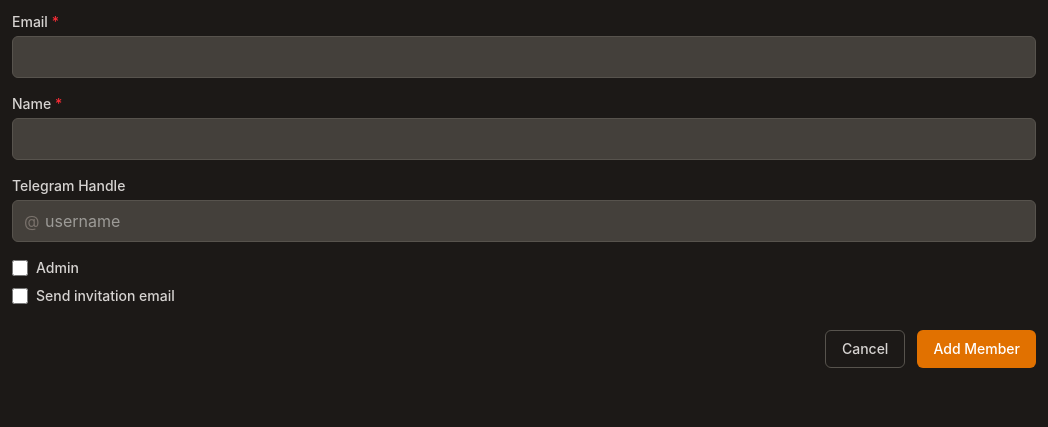
Test case: MemberForm › create mode › validates required fields on submit
Click the button "Add Member" at (977, 349), box [917,330,1036,368]
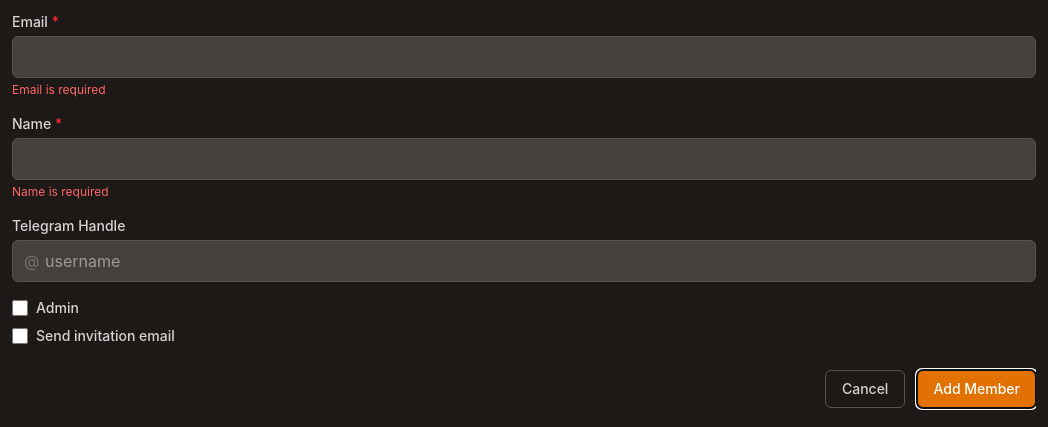
Now the text "Email is required" is shown, box [12,82,106,97]
Now the text "Name is required" is shown, box [12,184,109,199]
